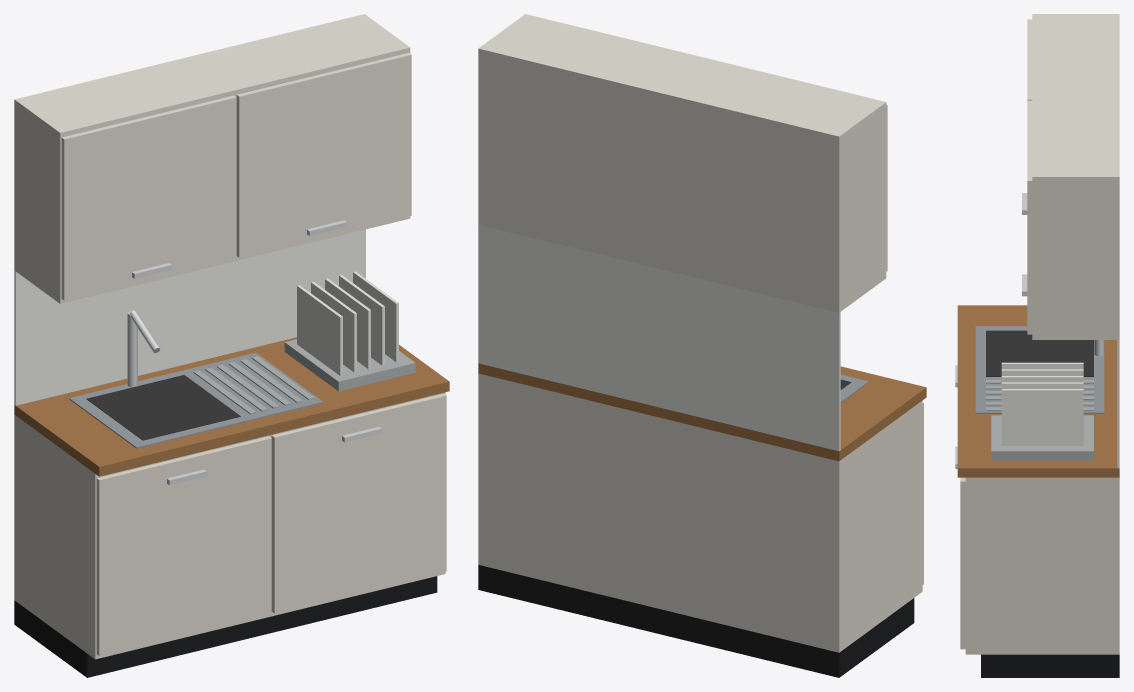
The model's file is kitchen_sink.glb.
The picture shows the model from 3 angles, left to right: view 1: azimuth 30°, elevation 25°; view 2: azimuth 150°, elevation 25°; view 3: azimuth 270°, elevation 25°; orthographic projection. The views are drawn at different scales.
Parts seen in each view (by area): view 1: kitchen_sink; view 2: kitchen_sink; view 3: kitchen_sink.
Boxes of the visible parts, x1,y1,x2,y2 form: kitchen_sink: [14, 14, 449, 677]; kitchen_sink: [478, 14, 926, 677]; kitchen_sink: [955, 14, 1119, 677].
Size of the model in its own units: 1.5 by 2.15 by 0.64.
1 material, 1 textured.
